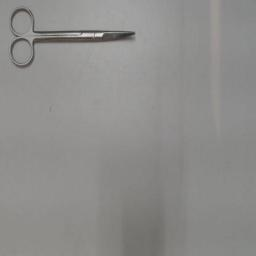Curved Mayo Scissors: (6, 3, 138, 71)
